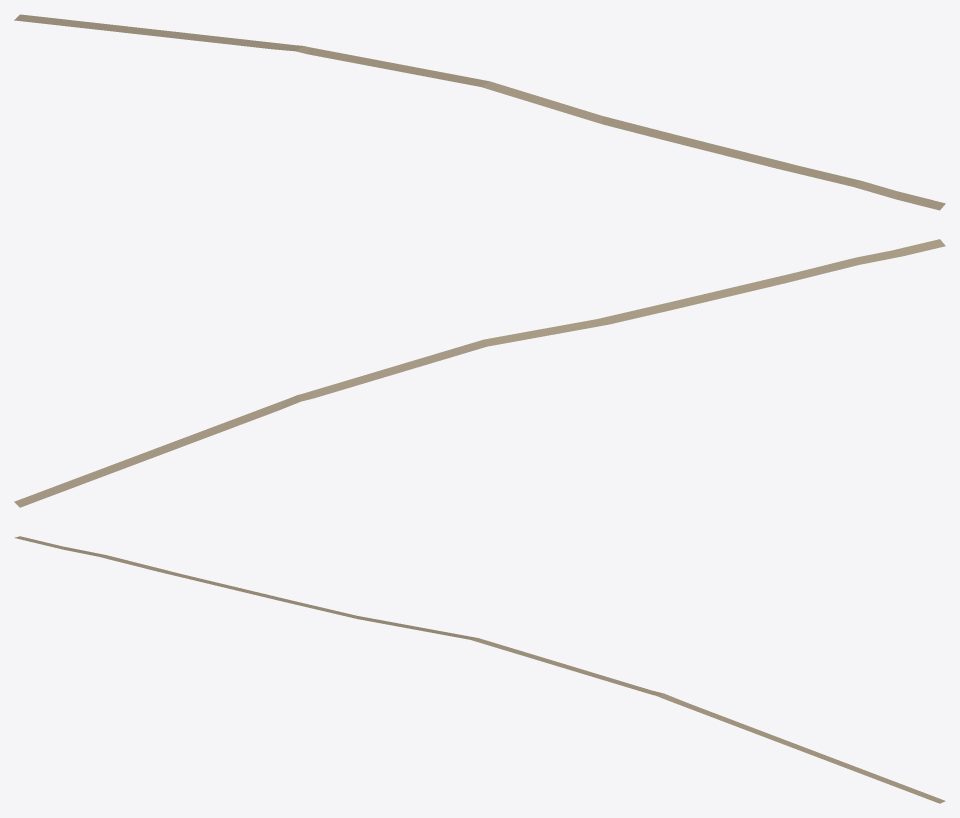
The model's file is farm_-30_-33_track.glb.
The picture shows the model from 3 angles, top to bottom: view 1: azimuth 90°, elevation 25°; view 2: azimuth 150°, elevation 25°; view 3: azimuth 270°, elevation 25°; orthographic projection.
Visible parts, largest first — view 1: geometry_0; view 2: geometry_0; view 3: geometry_0.
Boxes of the visible parts, <box> form: geometry_0: <box>14,14,945,210</box>; geometry_0: <box>14,239,945,507</box>; geometry_0: <box>14,536,945,803</box>.
Bounding box in the file's own units: 149 × 15.08 × 254.
